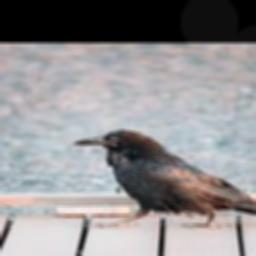Crow: (72, 129, 256, 228)
